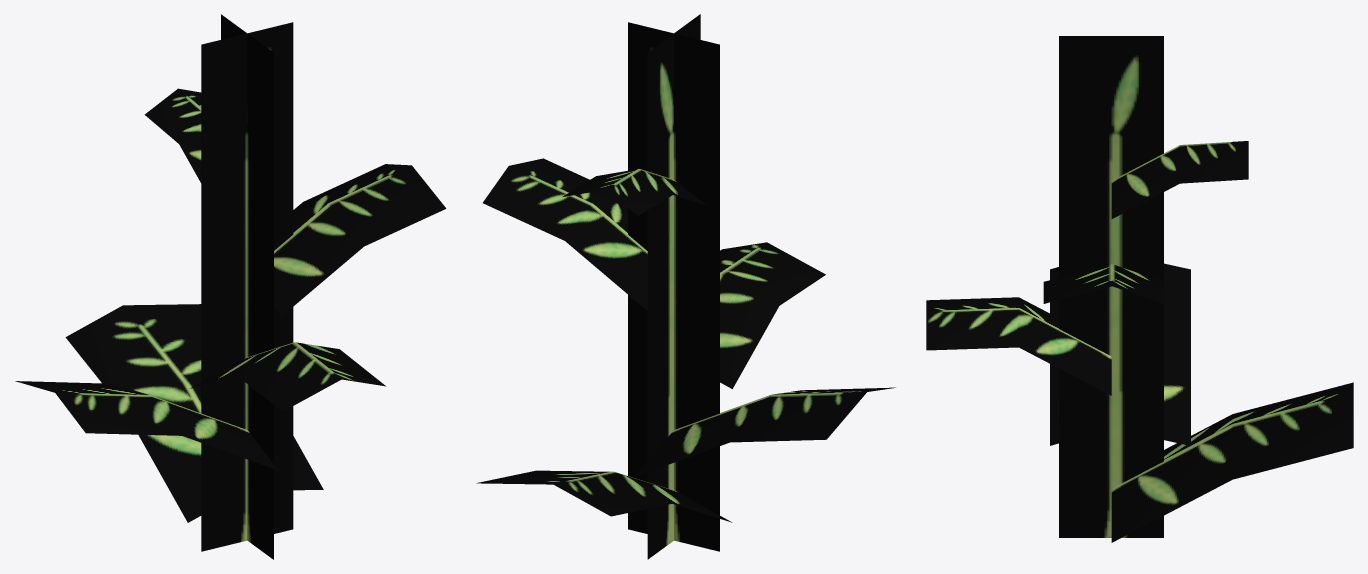
The model's file is LeafSetA_16.fbx.
3 views of the same model, side by side, from view 1: azimuth 30°, elevation 25°; view 2: azimuth 150°, elevation 25°; view 3: azimuth 270°, elevation 25° (orthographic).
Parts seen in each view (by area): view 1: LeafSetA_16; view 2: LeafSetA_16; view 3: LeafSetA_16.
Part boxes in pixels (x1,y1,x2,y2): LeafSetA_16: [15, 14, 446, 559]; LeafSetA_16: [476, 14, 895, 559]; LeafSetA_16: [926, 36, 1353, 542].
Size of the model in its own units: 0.6623 by 0.8974 by 0.6933.
